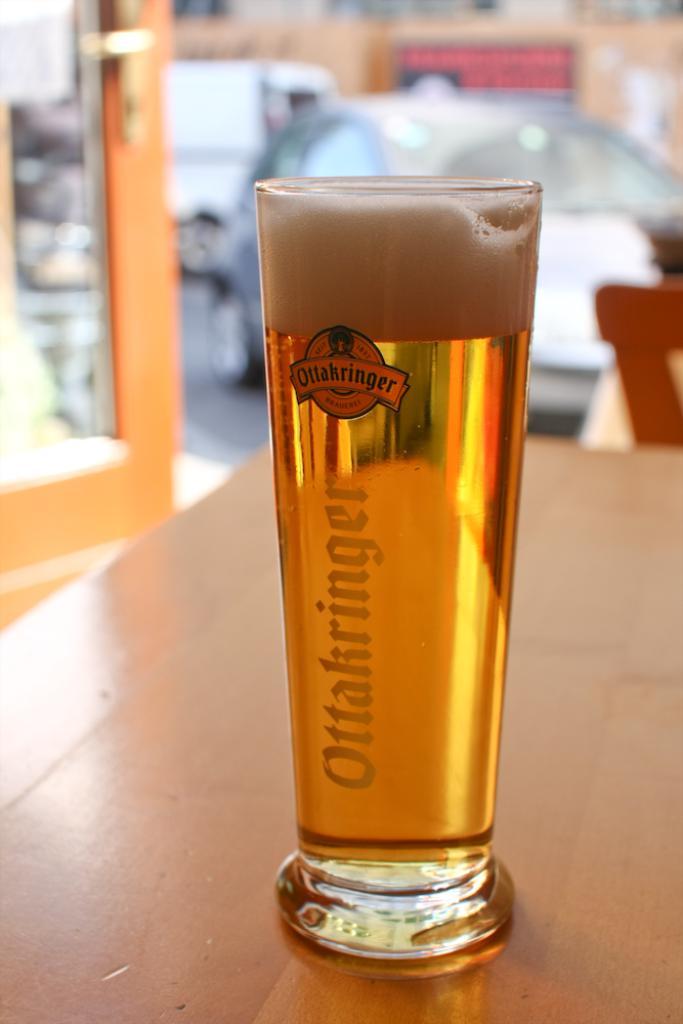Beer: (253, 178, 544, 856)
